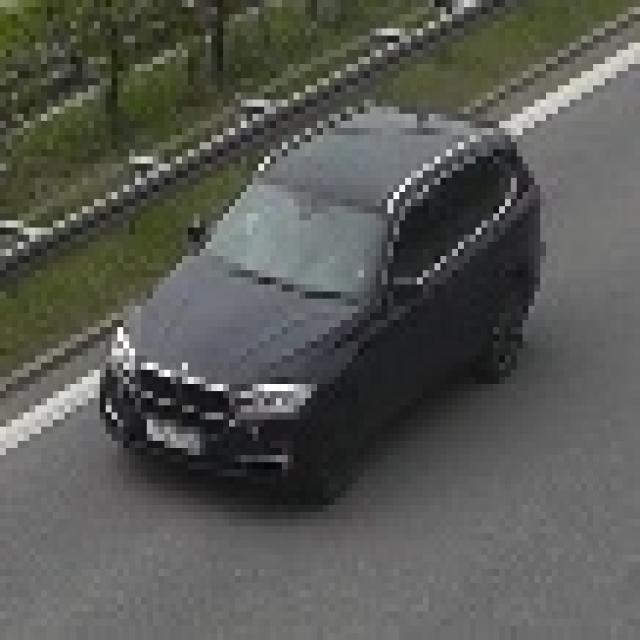SUV: (100, 114, 540, 474)
